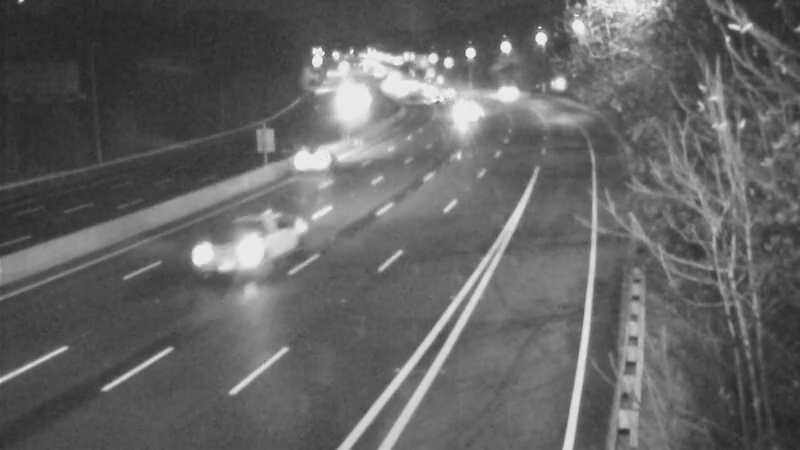vehicle: (280, 116, 360, 196), (190, 207, 270, 287), (474, 61, 524, 111), (441, 89, 491, 139)
